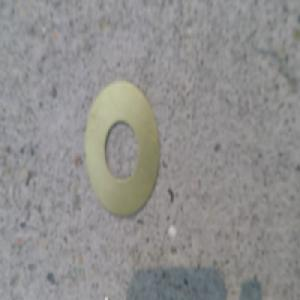Washer: (84, 80, 163, 222)
